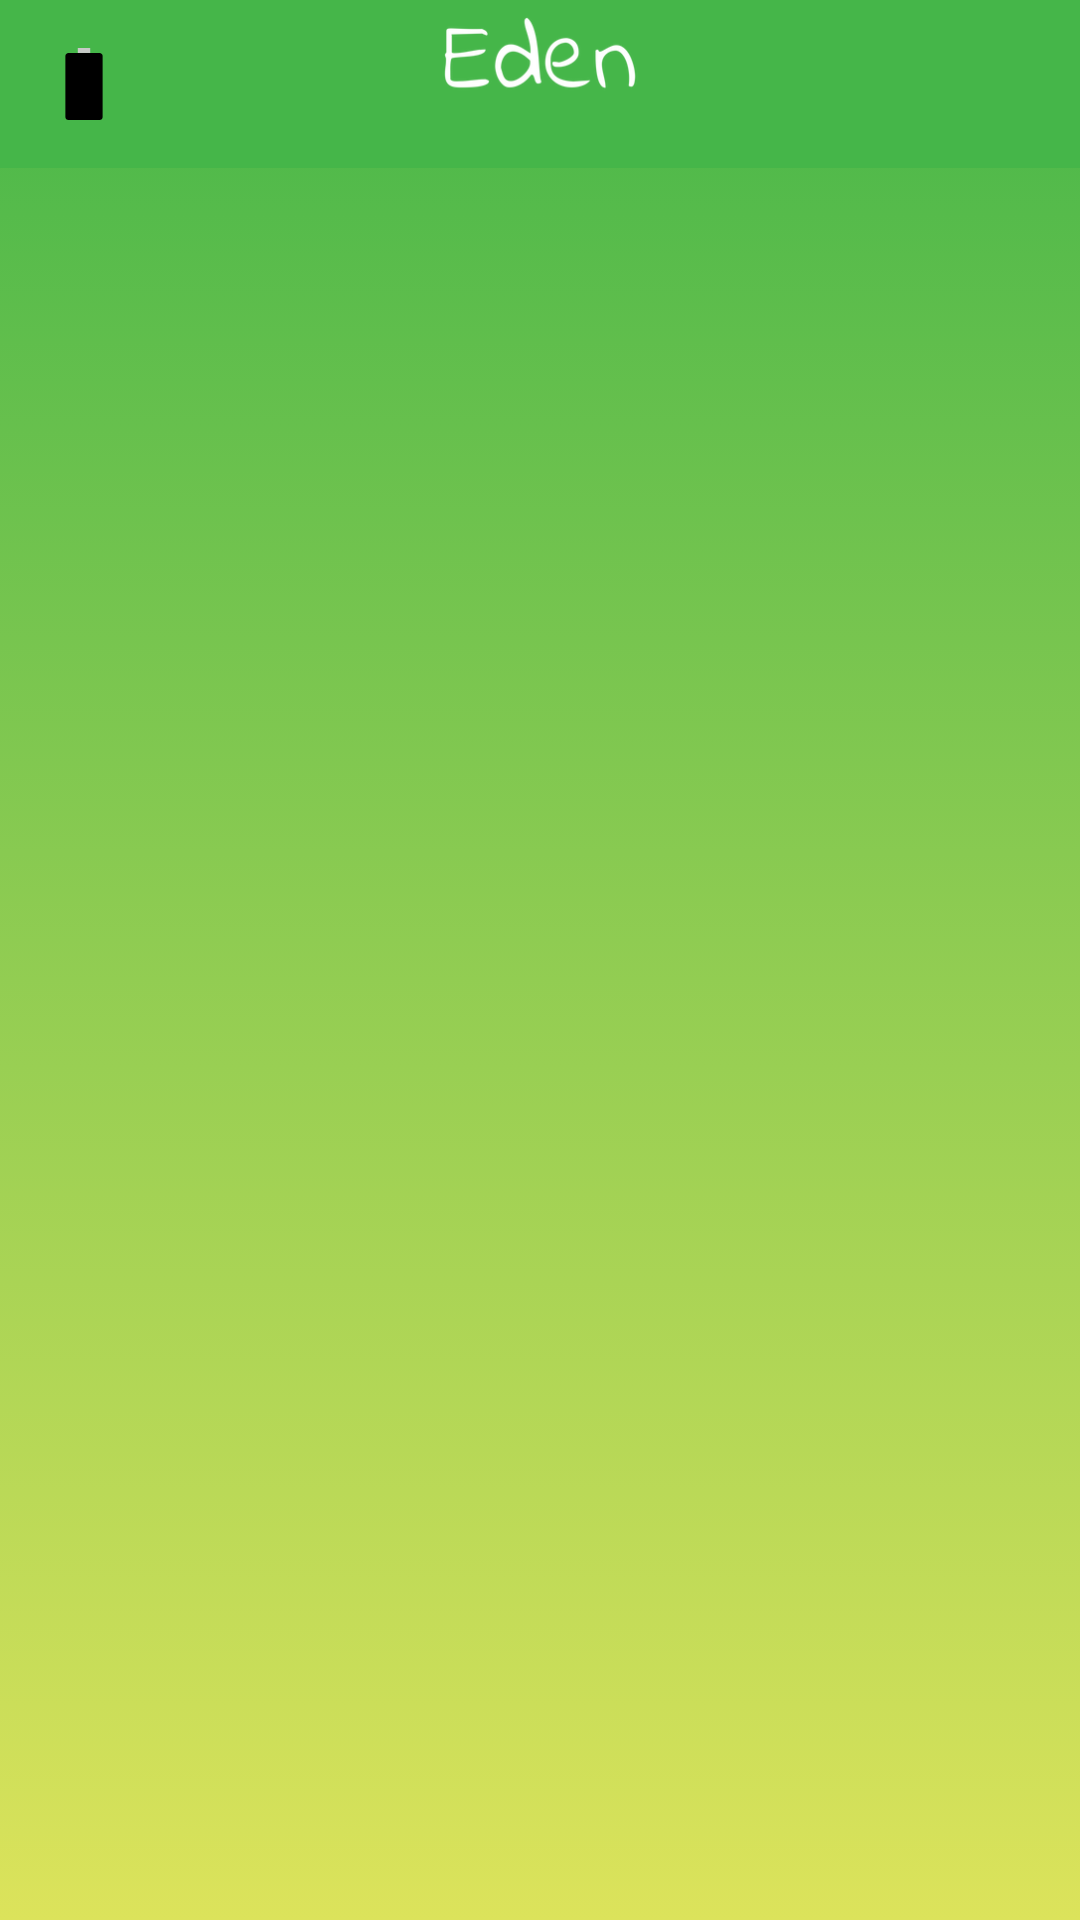

Icons on this 1080px x 1920px Android screen, each with its box as [x1, y1, x2, y2]:
battery full: [65, 48, 103, 120]
